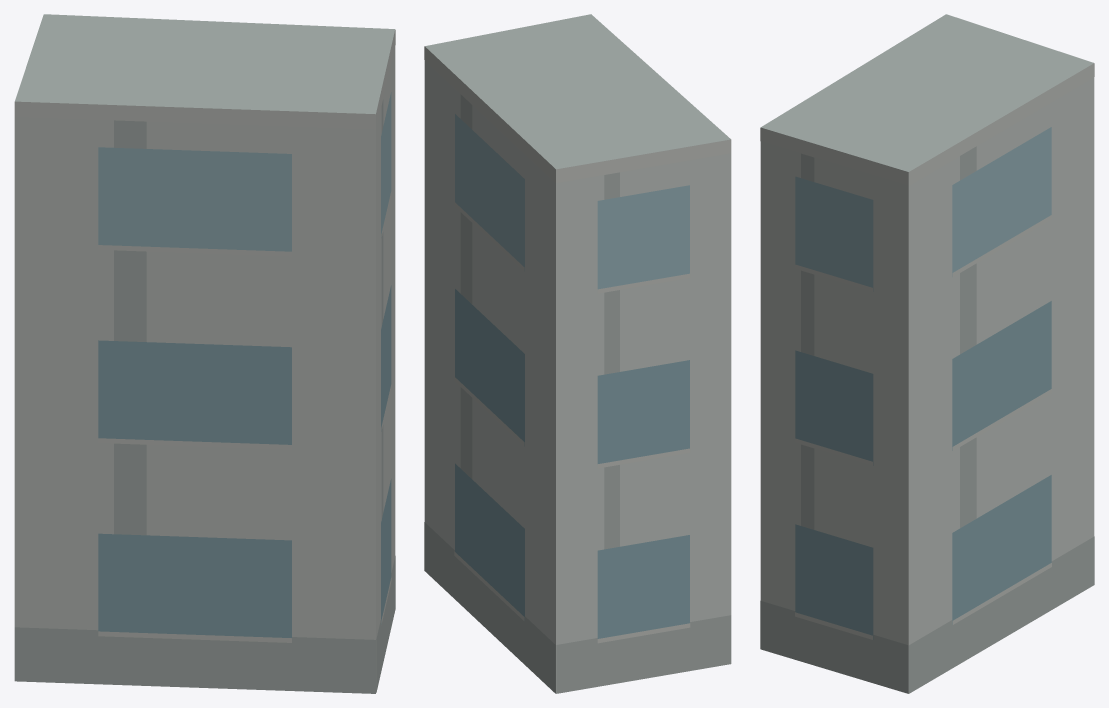
Rendered from survey-upis-32571551.glb.
3 views of the same model, side by side, from view 1: azimuth 30°, elevation 25°; view 2: azimuth 150°, elevation 25°; view 3: azimuth 270°, elevation 25° (orthographic). The views are drawn at different scales.
Parts seen in each view (by area): view 1: survey-upis-32571551.tmp; view 2: survey-upis-32571551.tmp; view 3: survey-upis-32571551.tmp.
Part boxes in pixels (bbox=[...]): survey-upis-32571551.tmp: bbox=[14, 14, 395, 693]; survey-upis-32571551.tmp: bbox=[424, 14, 731, 693]; survey-upis-32571551.tmp: bbox=[760, 14, 1094, 693].
Bounding box in the file's own units: 5.95 × 9.15 × 5.32.
